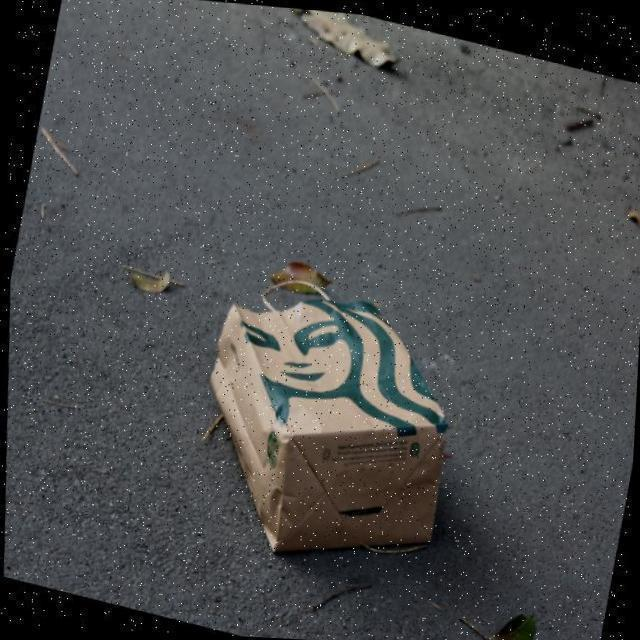Paper_Bag: (170, 257, 480, 592)
